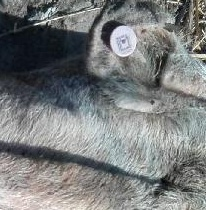text: (101, 17, 146, 63)
